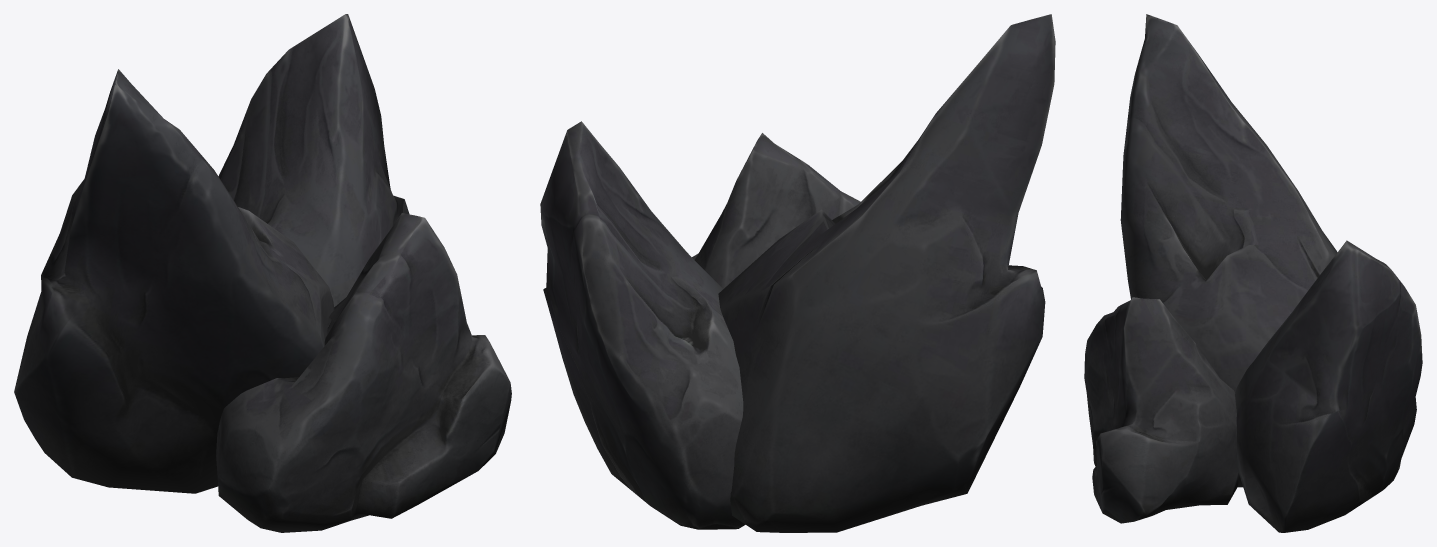
Rendered from RocksBlenderKit.fbx.
The picture shows the model from 3 angles, left to right: view 1: azimuth 30°, elevation 25°; view 2: azimuth 150°, elevation 25°; view 3: azimuth 270°, elevation 25°; orthographic projection. The views are drawn at different scales.
Parts seen in each view (by area): view 1: SM_RoughRock02_low, SM_RoughRock03_low, SM_RoughRock01_low; view 2: SM_RoughRock02_low, SM_RoughRock01_low, SM_RoughRock03_low; view 3: SM_RoughRock02_low, SM_RoughRock01_low, SM_RoughRock03_low.
Part boxes in pixels (x1,y1,x2,y2): SM_RoughRock02_low: (14, 69, 334, 493); SM_RoughRock03_low: (216, 213, 511, 532); SM_RoughRock01_low: (218, 14, 409, 306); SM_RoughRock02_low: (718, 14, 1055, 532); SM_RoughRock01_low: (540, 121, 745, 529); SM_RoughRock03_low: (692, 133, 860, 288); SM_RoughRock02_low: (1120, 14, 1337, 487); SM_RoughRock01_low: (1235, 240, 1422, 532); SM_RoughRock03_low: (1084, 297, 1239, 523).
Size of the model in its own units: 2.27 by 2.36 by 1.87.
Materials: 3 (3 with a texture image).
